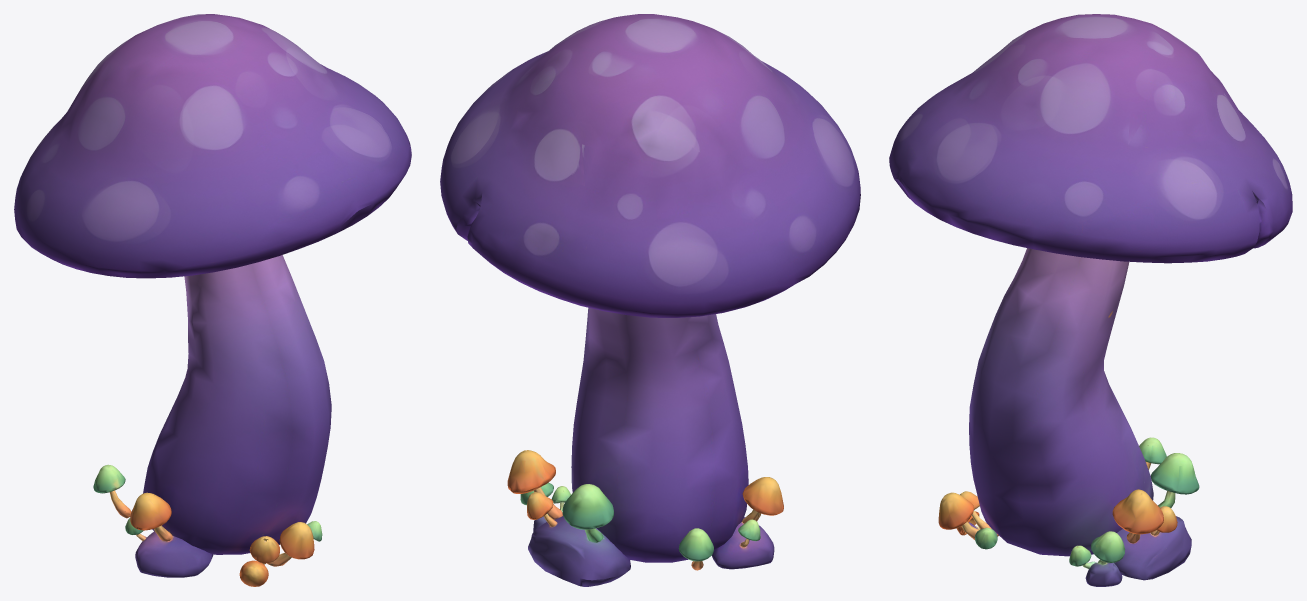
File: L9_MushroomLamp_LOD0.fbx
The picture shows the model from 3 angles, left to right: view 1: azimuth 30°, elevation 25°; view 2: azimuth 150°, elevation 25°; view 3: azimuth 270°, elevation 25°; orthographic projection. The views are drawn at different scales.
Visible parts, largest first — view 1: L9_MushroomLamp_LOD0; view 2: L9_MushroomLamp_LOD0; view 3: L9_MushroomLamp_LOD0.
Boxes of the visible parts, left/top/right/bottom form: L9_MushroomLamp_LOD0: left=14, top=14, right=411, bottom=586; L9_MushroomLamp_LOD0: left=440, top=14, right=860, bottom=586; L9_MushroomLamp_LOD0: left=889, top=14, right=1292, bottom=586.
Bounding box in the file's own units: 1.7 × 2.4 × 1.71.
Materials: 1 (1 with a texture image).
